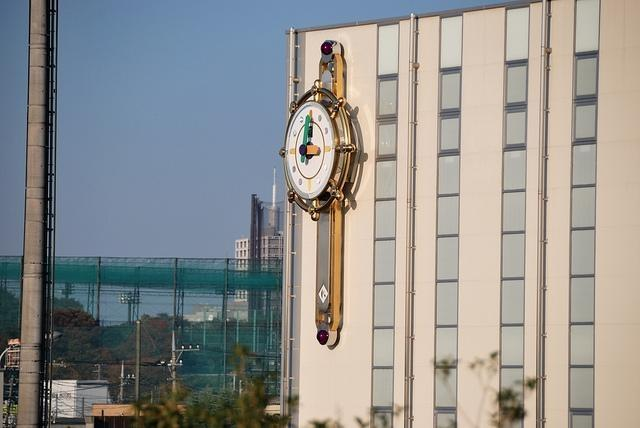truck: (44, 378, 110, 421)
